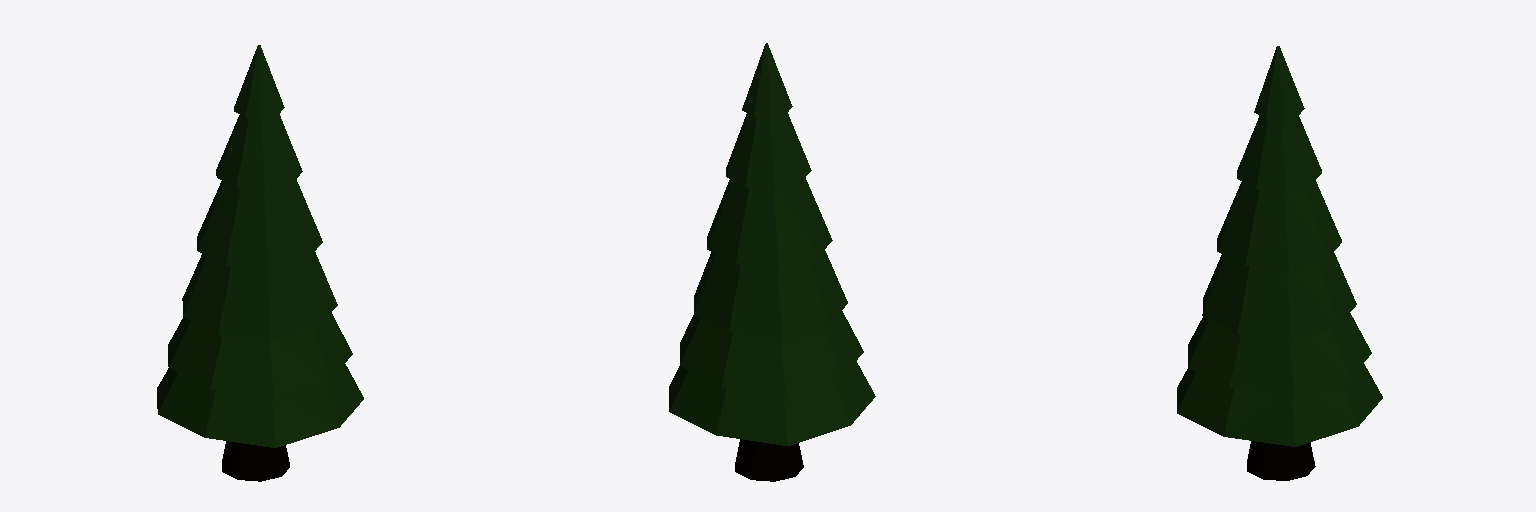
File: lowpolytree.obj
3 views of the same model, side by side, from view 1: azimuth 30°, elevation 25°; view 2: azimuth 150°, elevation 25°; view 3: azimuth 270°, elevation 25° (orthographic).
Visible parts, largest first — view 1: lowpolytree:Mesh; view 2: lowpolytree:Mesh; view 3: lowpolytree:Mesh.
Part boxes in pixels (x1,y1,x2,y2): lowpolytree:Mesh: (157, 45, 363, 481); lowpolytree:Mesh: (669, 43, 875, 481); lowpolytree:Mesh: (1177, 46, 1382, 480).
Bounding box in the file's own units: 2.31 × 5.12 × 2.28.